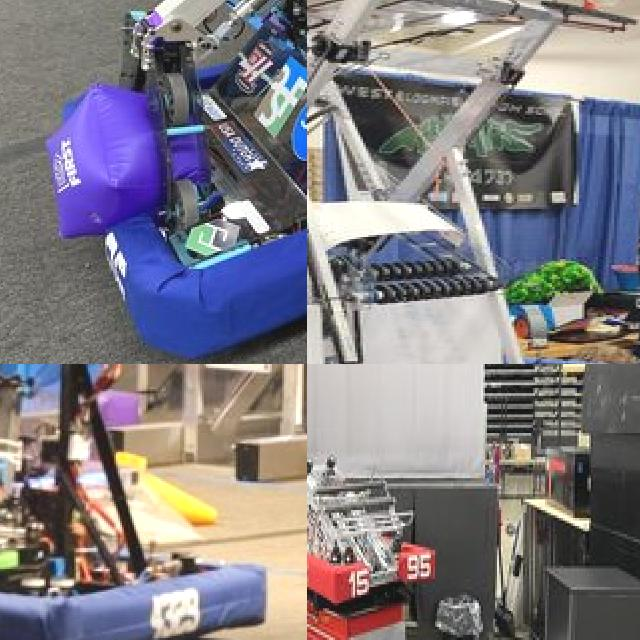FRC-Robots: (307, 0, 640, 364), (0, 0, 307, 327), (0, 364, 271, 640), (307, 444, 443, 609)
